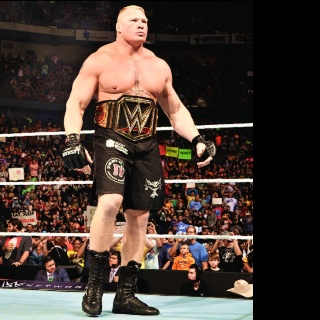without_mask: (121, 7, 148, 46)
